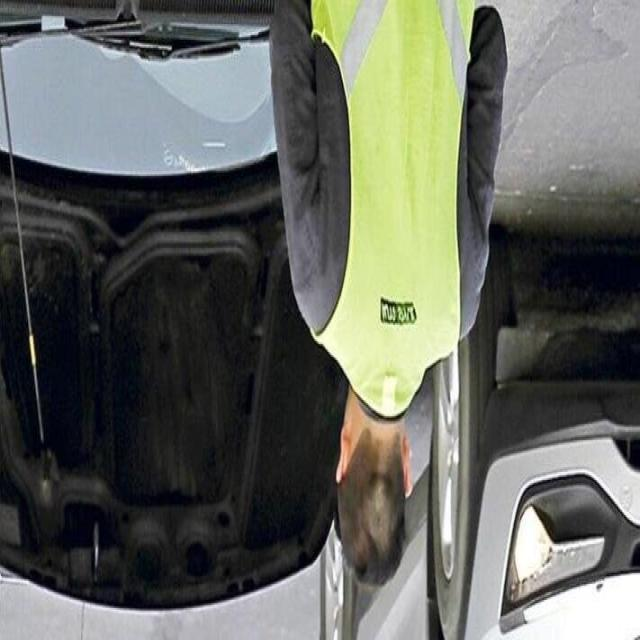Vest: (300, 0, 490, 415)
